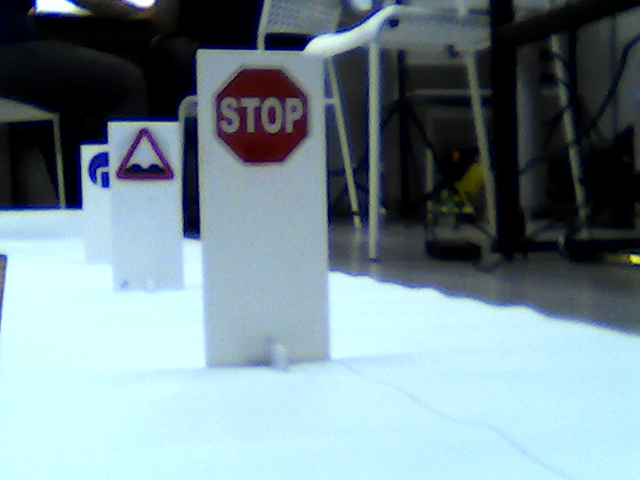Nerov: (116, 128, 176, 182)
Stop: (214, 61, 308, 173)
